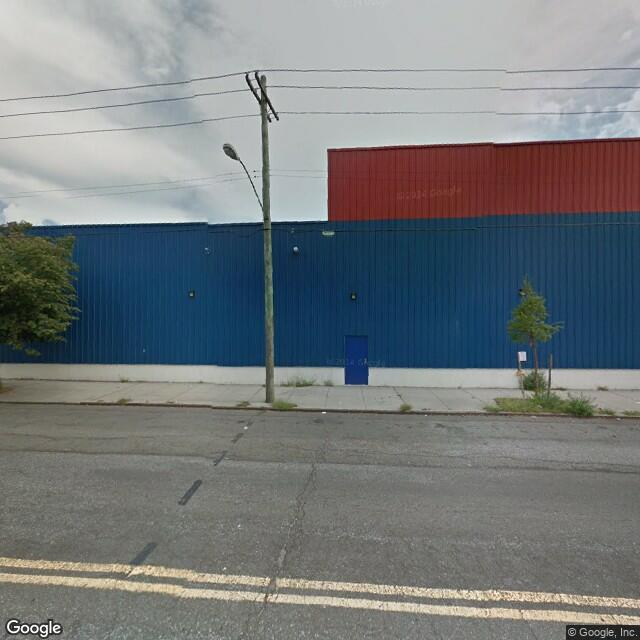litter: (242, 424, 252, 430), (422, 412, 429, 417), (322, 411, 331, 414)
